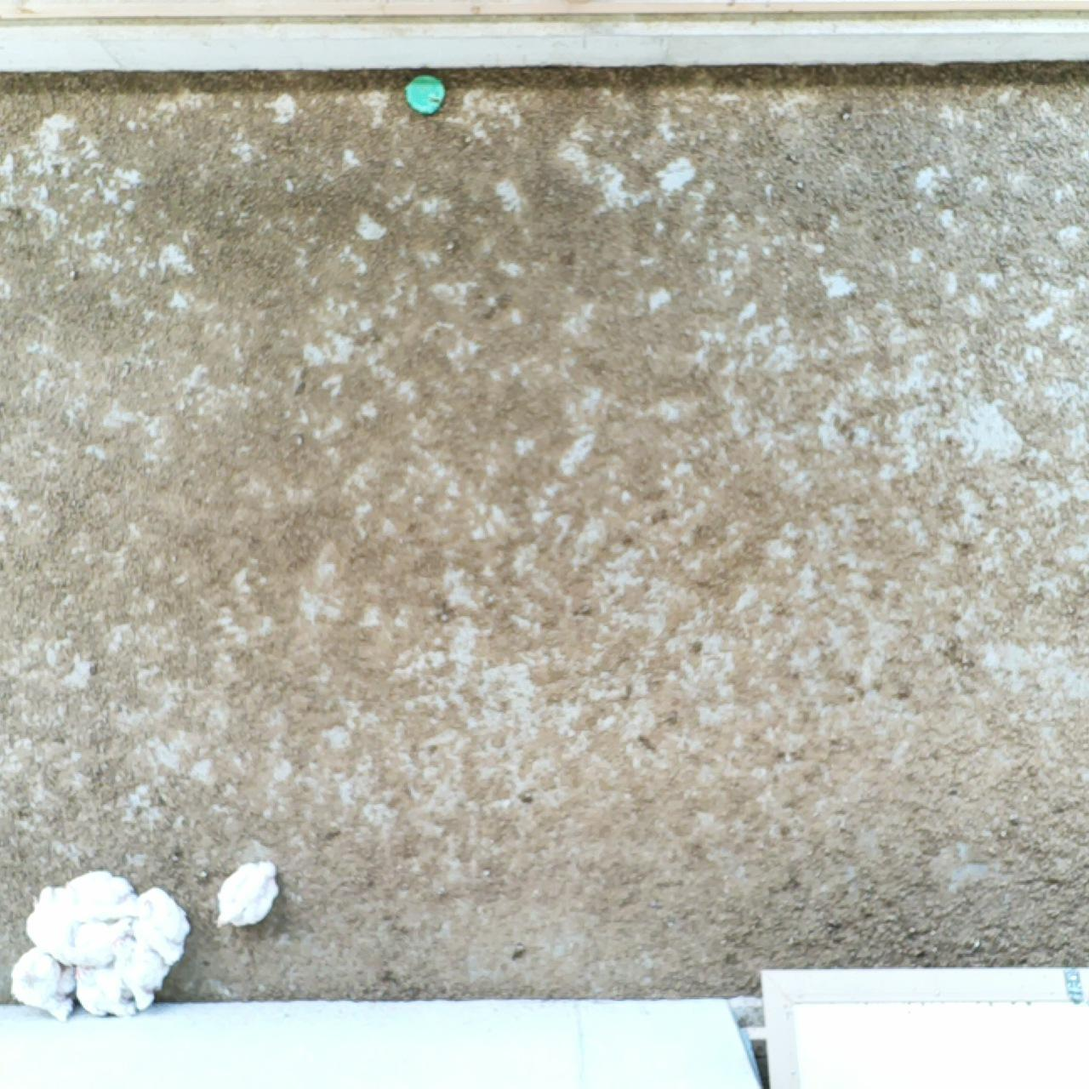chicken: (6, 944, 78, 1029), (126, 879, 193, 970), (212, 855, 283, 938), (23, 881, 82, 969), (110, 930, 172, 1012), (59, 865, 141, 925), (71, 957, 142, 1023), (60, 913, 133, 970)
